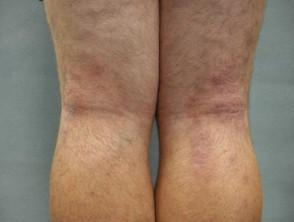Eczema: (183, 90, 226, 118), (83, 152, 124, 174), (200, 120, 223, 154), (183, 148, 209, 172), (196, 72, 223, 95), (186, 113, 205, 145), (226, 55, 249, 81), (111, 80, 129, 112), (130, 101, 152, 126), (66, 71, 85, 99), (87, 57, 110, 79), (116, 134, 140, 155), (88, 85, 107, 110), (227, 94, 245, 120), (237, 192, 256, 213), (237, 165, 253, 189), (216, 70, 232, 90), (84, 179, 99, 200), (71, 55, 92, 70), (228, 154, 244, 172), (69, 146, 88, 161), (245, 28, 258, 49), (246, 19, 263, 30), (255, 187, 264, 207), (62, 129, 74, 140)
